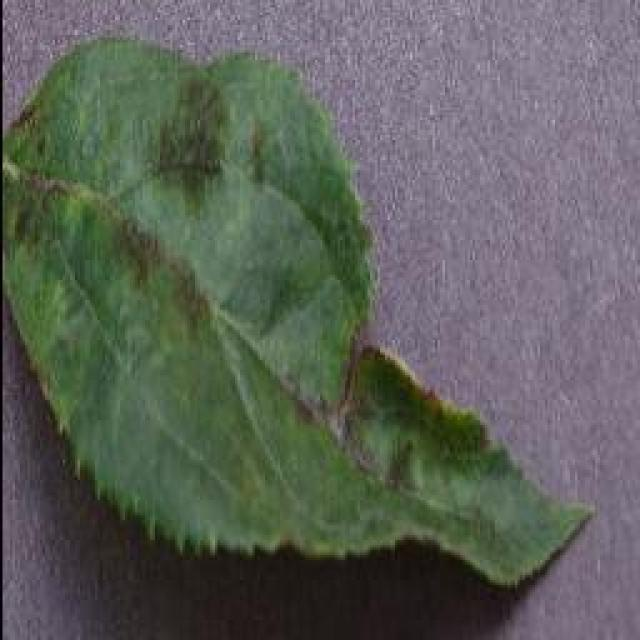Apple___Apple_scab: (0, 36, 599, 594)
